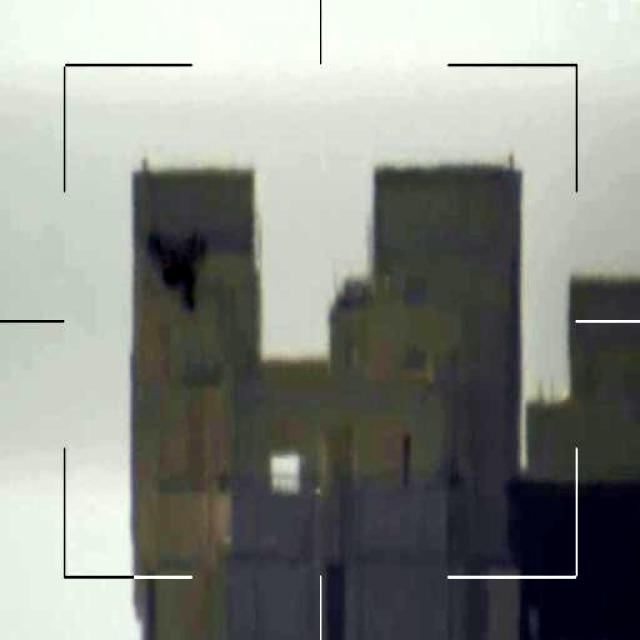bird: (140, 225, 210, 311)
